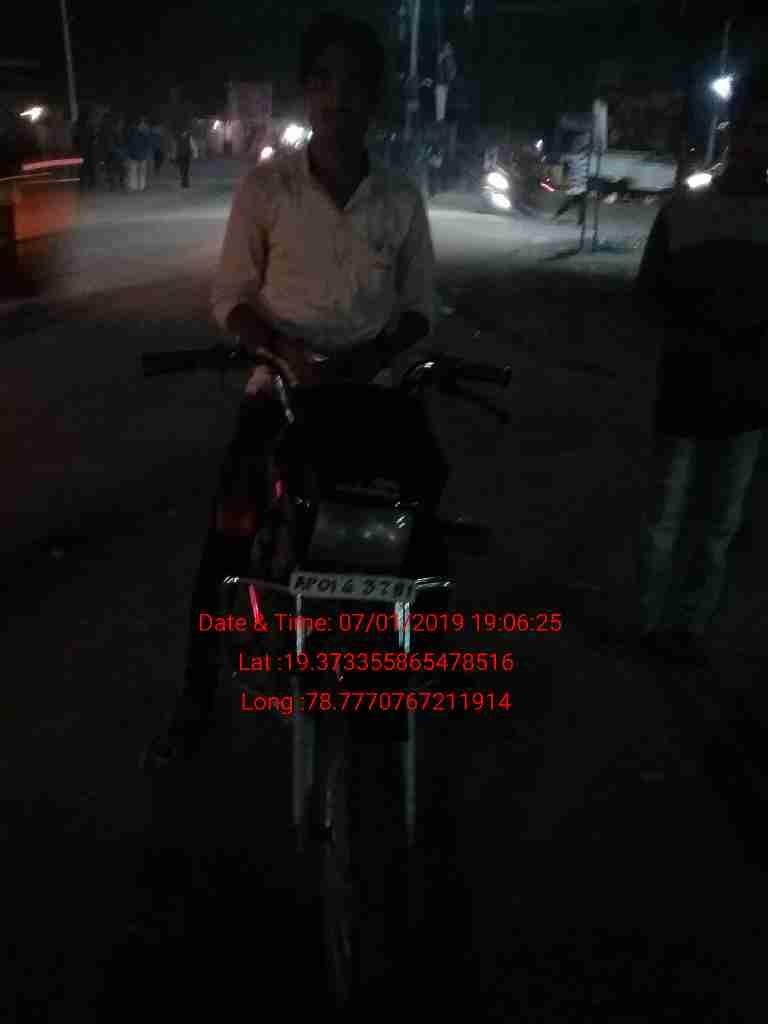plate: (285, 563, 419, 613)
